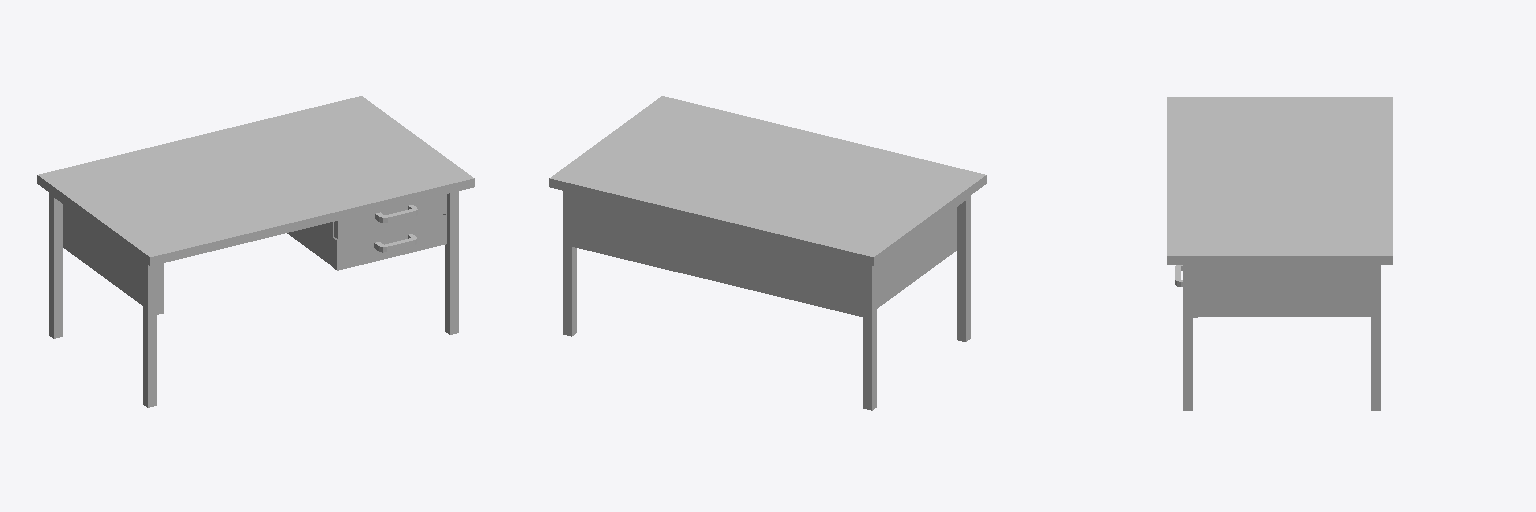
The model's file is Table.obj.
3 renders of one model, left to right at view 1: azimuth 30°, elevation 25°; view 2: azimuth 150°, elevation 25°; view 3: azimuth 270°, elevation 25°, orthographic.
Parts seen in each view (by area): view 1: Table1 table_top polySurface1, Table1 table_leg table_top polySurface1, Table1 table_leg table_leg_wood table_top polySurface1, Table1 bottom_drawer drawers table_leg1 table_top polySurface1, Table1 table_leg1 table_top polySurface1, Table1 drawers table_leg1 table_top top_drawer polySurface1, Table1 table_leg1 table_leg_wood table_top polySurface1; view 2: Table1 table_top polySurface1, Table1 table_back table_top polySurface1, Table1 table_leg1 table_leg_wood table_top polySurface1, Table1 table_leg table_top polySurface1, Table1 table_leg table_leg_wood table_top polySurface1, Table1 table_leg1 table_top polySurface1; view 3: Table1 table_top polySurface1, Table1 table_leg1 table_leg_wood table_top polySurface1, Table1 table_leg1 table_top polySurface1.
Boxes of the visible parts, box(x1,y1,x2,y2) form: Table1 table_top polySurface1: box(37, 96, 474, 265); Table1 table_leg table_top polySurface1: box(49, 193, 156, 407); Table1 table_leg table_leg_wood table_top polySurface1: box(63, 204, 163, 314); Table1 bottom_drawer drawers table_leg1 table_top polySurface1: box(333, 214, 446, 270); Table1 table_leg1 table_top polySurface1: box(445, 191, 458, 334); Table1 drawers table_leg1 table_top top_drawer polySurface1: box(334, 194, 446, 239); Table1 table_leg1 table_leg_wood table_top polySurface1: box(287, 222, 334, 266); Table1 table_top polySurface1: box(549, 96, 986, 265); Table1 table_back table_top polySurface1: box(682, 220, 855, 315); Table1 table_leg1 table_leg_wood table_top polySurface1: box(572, 193, 681, 272); Table1 table_leg table_top polySurface1: box(863, 196, 970, 410); Table1 table_leg table_leg_wood table_top polySurface1: box(856, 207, 956, 316); Table1 table_leg1 table_top polySurface1: box(563, 191, 576, 336); Table1 table_top polySurface1: box(1167, 97, 1392, 264); Table1 table_leg1 table_leg_wood table_top polySurface1: box(1198, 269, 1370, 316); Table1 table_leg1 table_top polySurface1: box(1183, 265, 1380, 410).
Bounding box in the file's own units: 35.94 × 16.81 × 21.66.